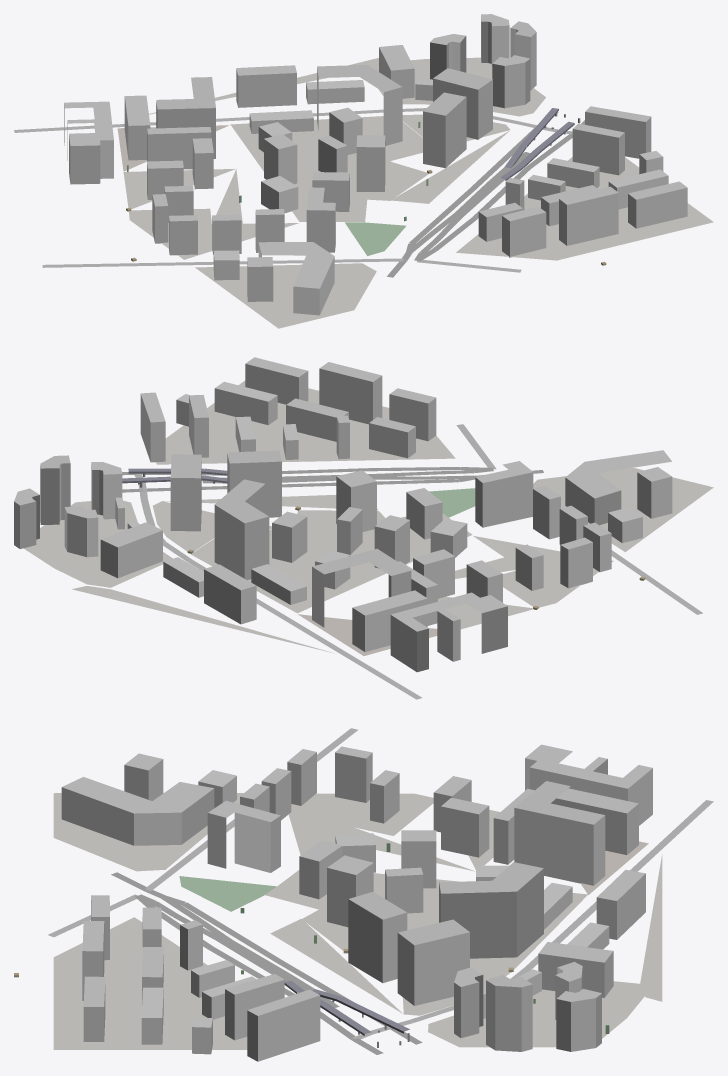
3 renders of one model, top to bottom at view 1: azimuth 30°, elevation 25°; view 2: azimuth 150°, elevation 25°; view 3: azimuth 270°, elevation 25°, orthographic. The views are drawn at different scales.
Bounding box in the file's own units: 655 × 64.37 × 575.
